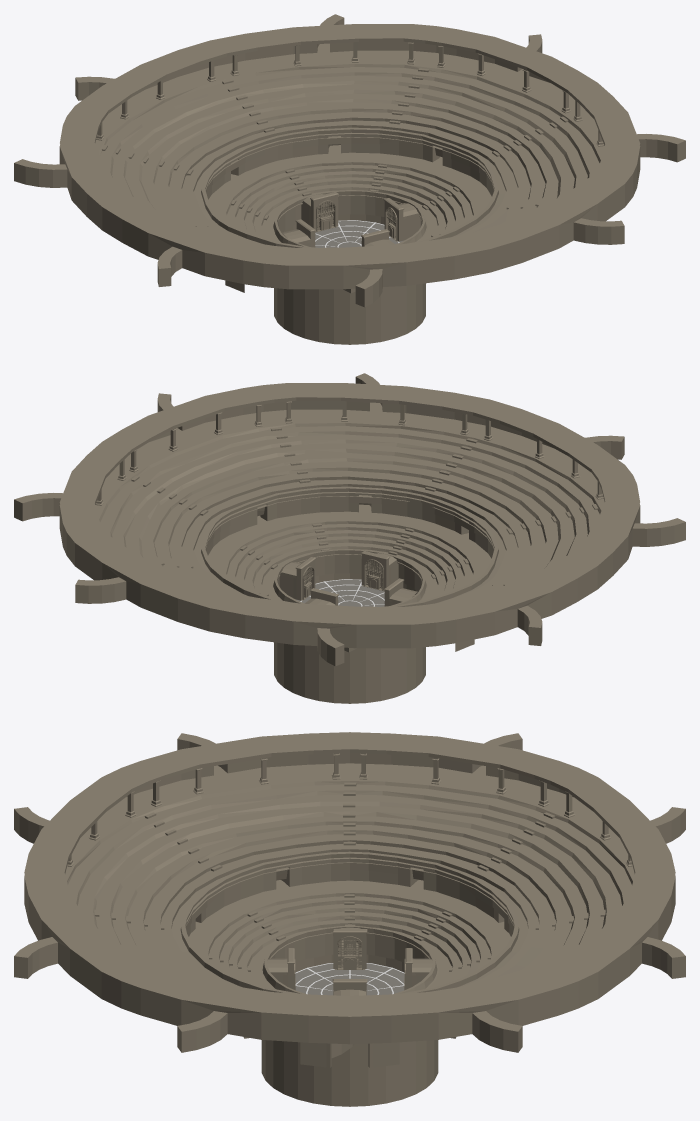
The model's file is tougizyou.fbx.
3 renders of one model, top to bottom at view 1: azimuth 30°, elevation 25°; view 2: azimuth 150°, elevation 25°; view 3: azimuth 270°, elevation 25°, orthographic. The views are drawn at different scales.
Visible parts, largest first — view 1: transform1, pCylinder3, transform2 (×3); view 2: transform1, pCylinder3, transform2 (×3); view 3: transform1, pCylinder3, transform2 (×4), pasted__pasted__basu2, pasted__pasted__basu1, pasted__pasted__basu3.
Part boxes in pixels (x1=…): transform1: x1=14, y1=14, x2=685, y2=307; pCylinder3: x1=274, y1=214, x2=425, y2=344; transform2 (×3): x1=282, y1=192, x2=419, y2=247; transform1: x1=14, y1=373, x2=685, y2=666; pCylinder3: x1=274, y1=573, x2=425, y2=703; transform2 (×3): x1=280, y1=551, x2=417, y2=606; transform1: x1=14, y1=732, x2=685, y2=1067; pCylinder3: x1=261, y1=954, x2=438, y2=1106; transform2 (×4): x1=267, y1=927, x2=432, y2=995; pasted__pasted__basu2: x1=295, y1=969, x2=404, y2=993; pasted__pasted__basu1: x1=306, y1=974, x2=393, y2=994; pasted__pasted__basu3: x1=295, y1=963, x2=404, y2=983.
Size of the model in its own units: 411 by 126 by 390.
